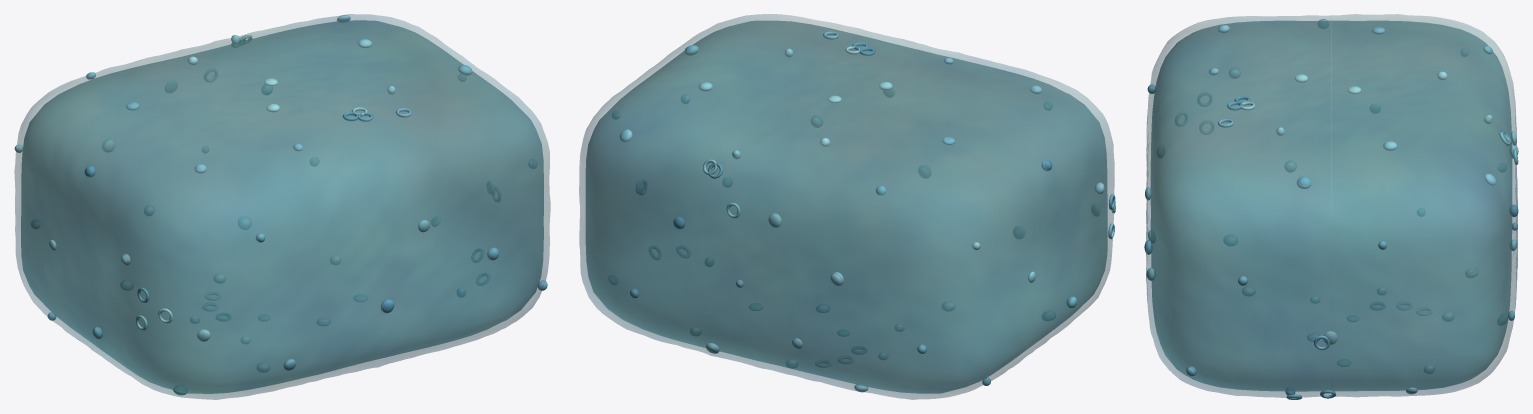
Rendered from membrane-plant.glb.
The picture shows the model from 3 angles, left to right: view 1: azimuth 30°, elevation 25°; view 2: azimuth 150°, elevation 25°; view 3: azimuth 270°, elevation 25°; orthographic projection.
Visible parts, largest first — view 1: membrane-plant-membrane, membrane-plant-proteins; view 2: membrane-plant-membrane, membrane-plant-proteins; view 3: membrane-plant-membrane, membrane-plant-proteins.
Boxes of the visible parts, box(x1,y1,x2,y2) form: membrane-plant-membrane: box(14, 14, 550, 399); membrane-plant-proteins: box(14, 15, 547, 395); membrane-plant-membrane: box(579, 14, 1114, 399); membrane-plant-proteins: box(609, 31, 1115, 392); membrane-plant-membrane: box(1146, 14, 1517, 397); membrane-plant-proteins: box(1144, 19, 1518, 399).
Size of what is drawn, in the model's own units: 26.19 by 14.22 by 20.22.
